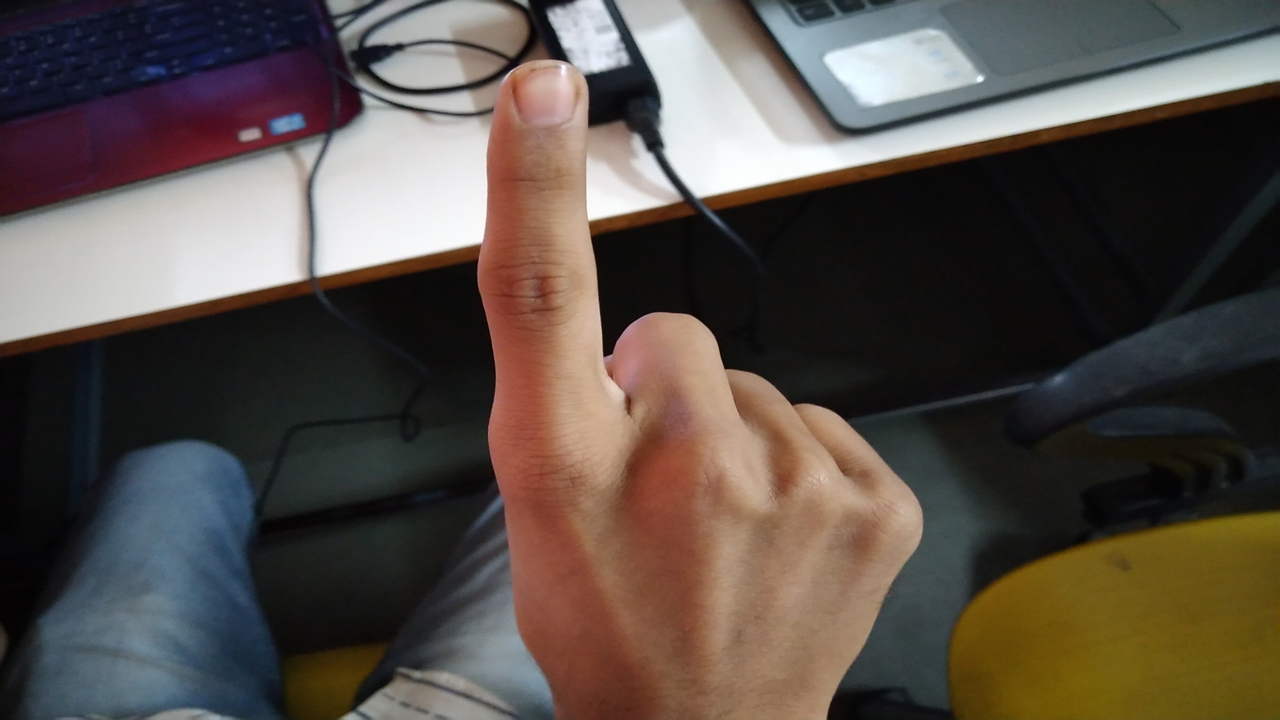fingertip: (488, 54, 586, 132)
